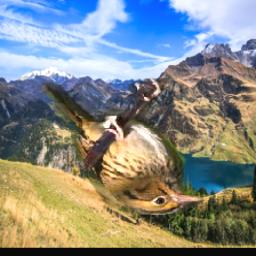Sparrow: (41, 78, 203, 215)
